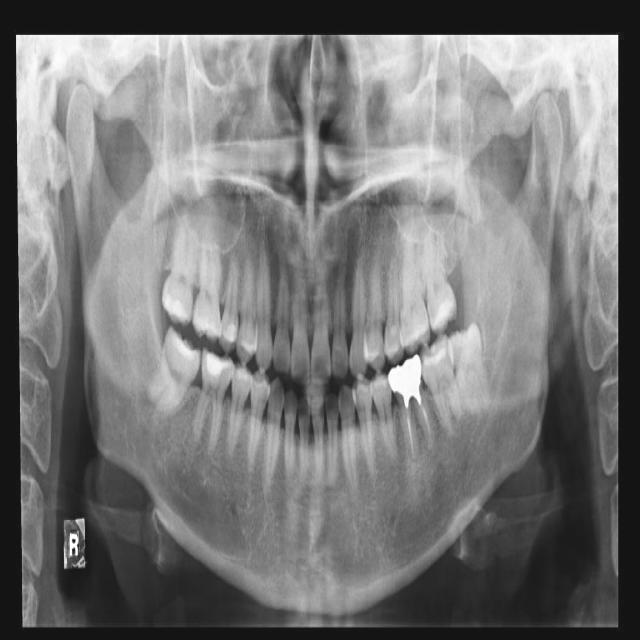Crown: (388, 354, 422, 394)
Filling: (202, 347, 234, 388), (160, 293, 195, 320), (171, 334, 201, 360), (420, 338, 449, 364)
Root Canal Treatment: (424, 409, 431, 449), (408, 413, 414, 457)
impacted tooth: (448, 323, 494, 414)
